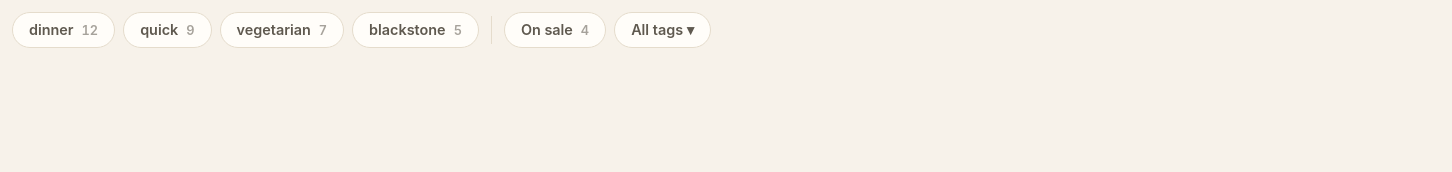
QuickRow › lists every tag alphabetically under All tags and picks one
What coordinates should you click on to do the following:
click the button "All tags ▾"
I would click on:
 (662, 30)
Its box is [614,12,711,48].
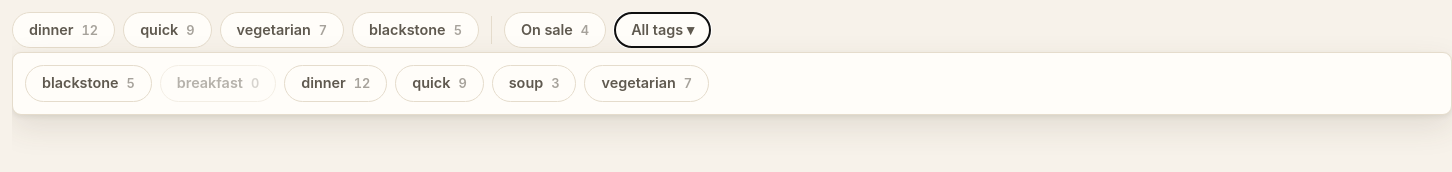
Check: the button "All tags ▾" is expanded, box [614,12,711,48]
Check: the buttons read "blackstone5", "breakfast0", "dinner12", "quick9", "soup3", "vegetarian7", in this order
Check: the button "breakfast0" is disabled, box [160,65,276,102]
What coordinates should you click on to do the following:
click the 2nd button "quick9"
I would click on:
 (440, 83)
Its box is [395,65,484,102].
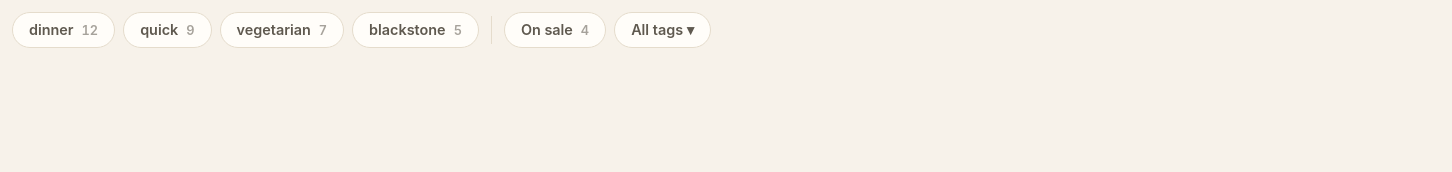
Check: the button "All tags ▾" is collapsed, box [614,12,711,48]
